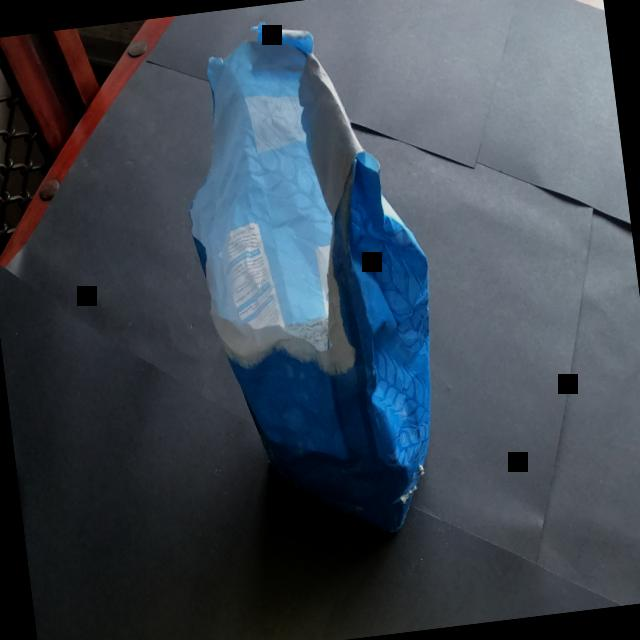Flour: (161, 0, 492, 581)
